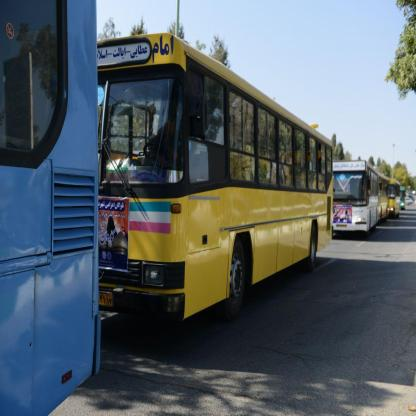Bus: (91, 15, 337, 340), (0, 0, 100, 408), (329, 149, 386, 240), (385, 175, 407, 228)
